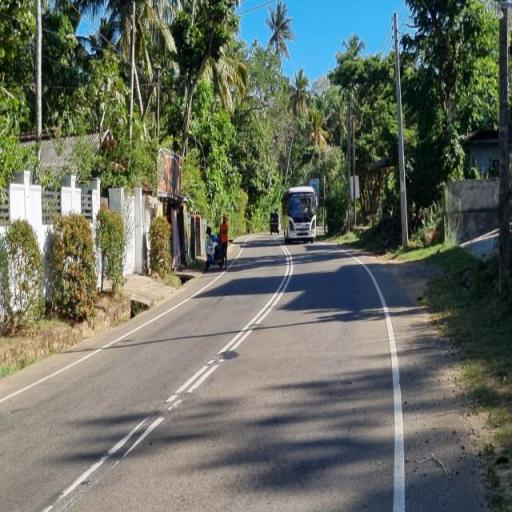double_white_line: (166, 246, 296, 408), (45, 413, 166, 510)
